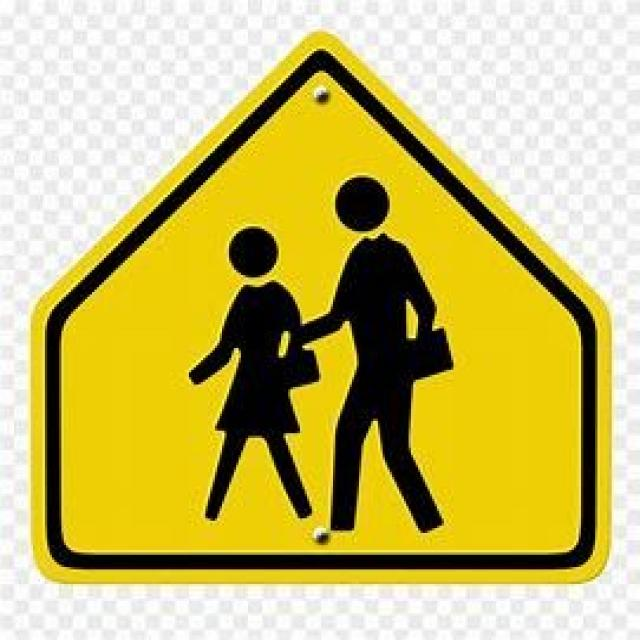SCHOOL_AHEAD: (26, 27, 614, 584)
